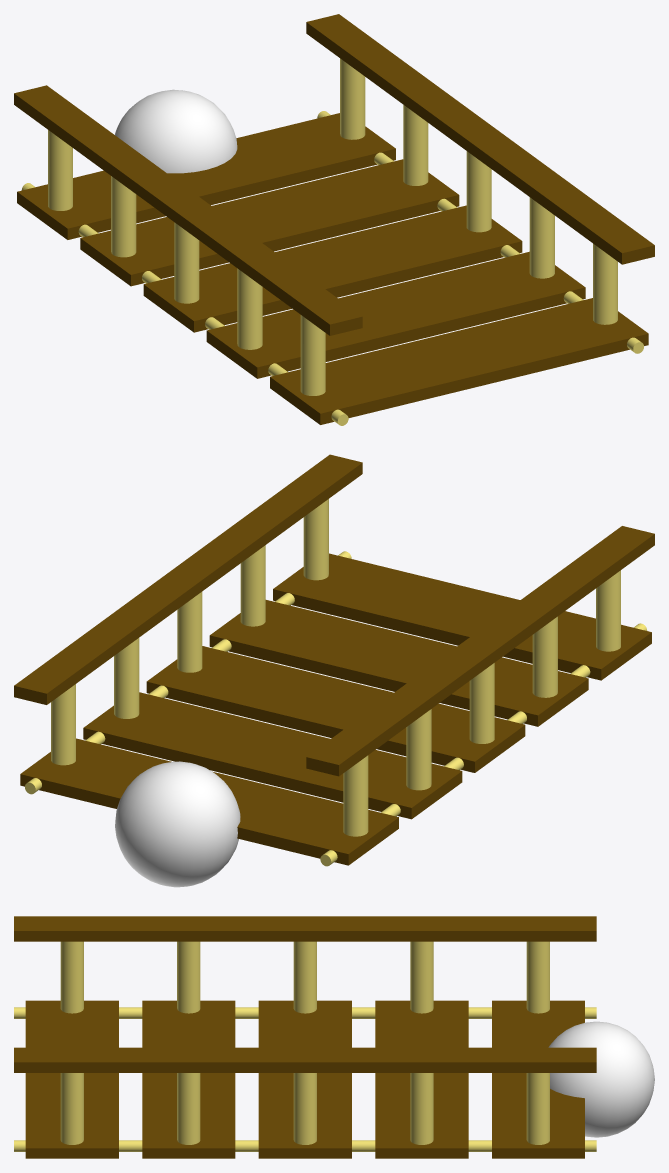
The model's file is Bridge (1).fbx.
The picture shows the model from 3 angles, top to bottom: view 1: azimuth 30°, elevation 25°; view 2: azimuth 150°, elevation 25°; view 3: azimuth 270°, elevation 25°; orthographic projection. The views are drawn at different scales.
Parts seen in each view (by area): view 1: Cube_4, Cube_3, Cube_2, Cube_1, Cube, RotationAxis, Cube__1__9, Cube__1__8, Cube__1__7, Cube__1_, Cube__1__1, Cube__1__5 (+14 smaller); view 2: Cube_1, Cube_2, Cube_3, Cube_4, Cube, RotationAxis, Cube__1__1, Cube__1_, Cube__1__2, Cube__1__9, Cube__1__3, Cube__1__8 (+14 smaller); view 3: Cube_1, Cube_2, Cube_3, Cube_4, Cube, RotationAxis, Cube__1__3, Cube__1__2, Cube__1_, Cube__1__1, Cube__1__4, Cube__1__5 (+14 smaller).
Part boxes in pixels (x1,y1,x2,y2): Cube_4: [270, 298, 648, 424]; Cube_3: [206, 251, 585, 378]; Cube_2: [143, 205, 522, 332]; Cube_1: [80, 159, 459, 286]; Cube: [17, 113, 395, 239]; RotationAxis: [115, 89, 237, 173]; Cube__1__9: [266, 270, 362, 335]; Cube__1__8: [559, 199, 654, 264]; Cube__1__7: [203, 224, 298, 289]; Cube__1_: [306, 14, 401, 79]; Cube__1__1: [14, 85, 109, 150]; Cube__1__5: [140, 178, 235, 243]; Cube_1: [83, 692, 462, 819]; Cube_2: [146, 646, 525, 772]; Cube_3: [209, 600, 588, 726]; Cube_4: [273, 553, 651, 680]; Cube: [20, 738, 398, 865]; RotationAxis: [115, 761, 240, 887]; Cube__1__1: [306, 711, 402, 776]; Cube__1_: [14, 639, 109, 704]; Cube__1__2: [77, 593, 173, 658]; Cube__1__9: [559, 526, 654, 591]; Cube__1__3: [369, 664, 465, 729]; Cube__1__8: [267, 454, 362, 519]; Cube_1: [375, 1000, 468, 1158]; Cube_2: [258, 1000, 351, 1158]; Cube_3: [142, 1000, 235, 1158]; Cube_4: [25, 1000, 118, 1158]; Cube: [492, 1000, 584, 1158]; RotationAxis: [548, 1021, 654, 1137]; Cube__1__3: [363, 916, 480, 941]; Cube__1__2: [363, 1047, 480, 1072]; Cube__1_: [480, 1047, 596, 1072]; Cube__1__1: [480, 916, 596, 941]; Cube__1__4: [247, 1047, 363, 1072]; Cube__1__5: [247, 916, 363, 941].
Size of the model in its own units: 300 by 136 by 550.
